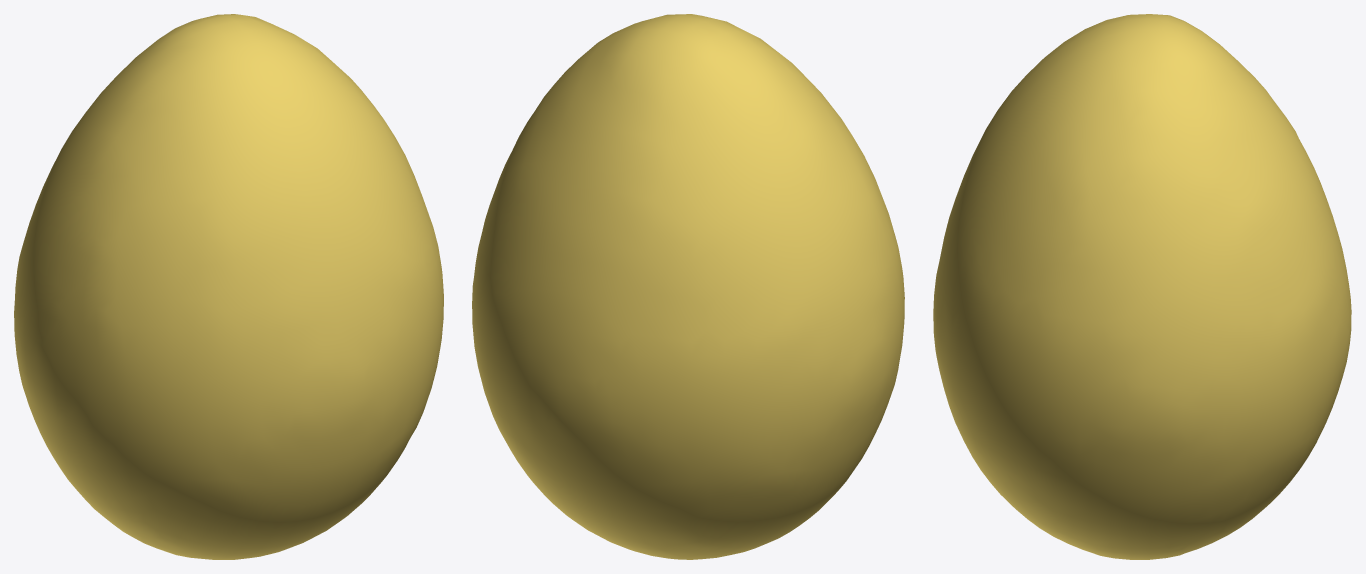
The model's file is GOLDEGG.fbx.
3 renders of one model, left to right at view 1: azimuth 30°, elevation 25°; view 2: azimuth 150°, elevation 25°; view 3: azimuth 270°, elevation 25°, orthographic.
Visible parts, largest first — view 1: 구체.001; view 2: 구체.001; view 3: 구체.001.
Part boxes in pixels (x1,y1,x2,y2): 구체.001: [14, 14, 443, 559]; 구체.001: [472, 14, 904, 559]; 구체.001: [933, 14, 1351, 559].
Size of the model in its own units: 63.47 by 82.92 by 60.61.
